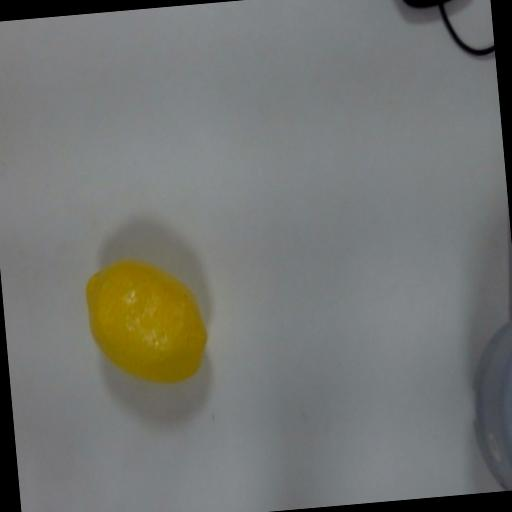Ripe: (80, 251, 214, 390)
